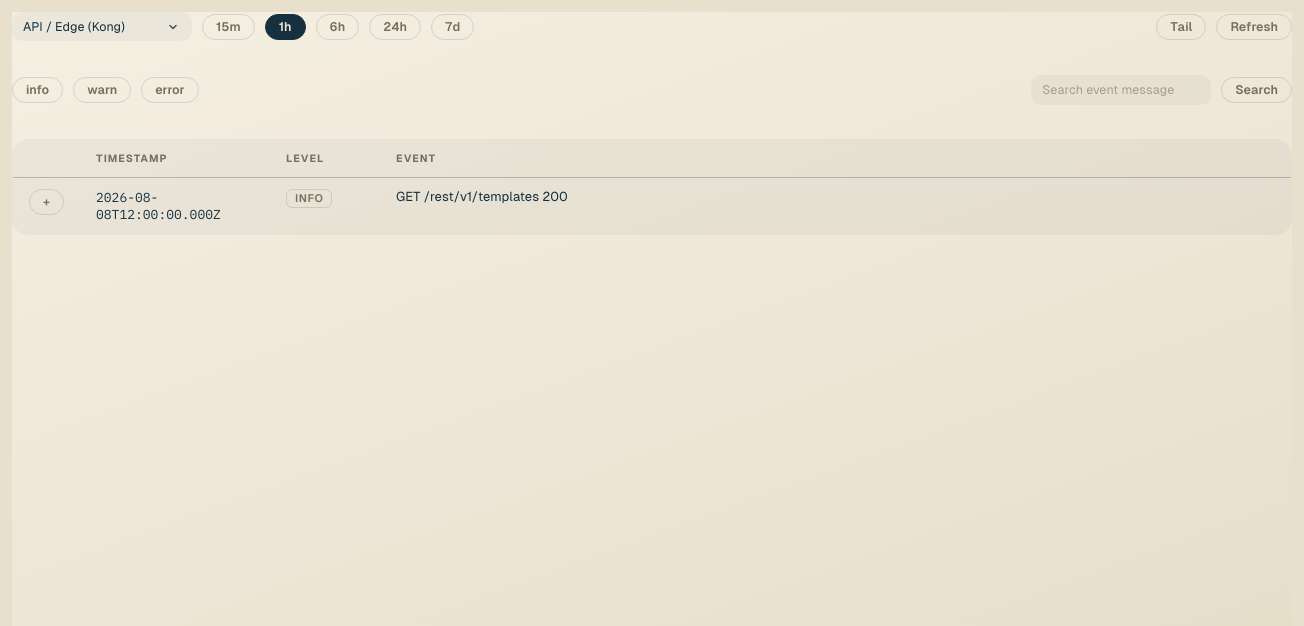
Test: LogsClient — render states › expanding a row reveals its metadata JSON and collapses back
Expected: the text "\"status_code\": 200" is not shown
Click the button named "Expand metadata".
click(46, 202)  # box [29,189,64,215]
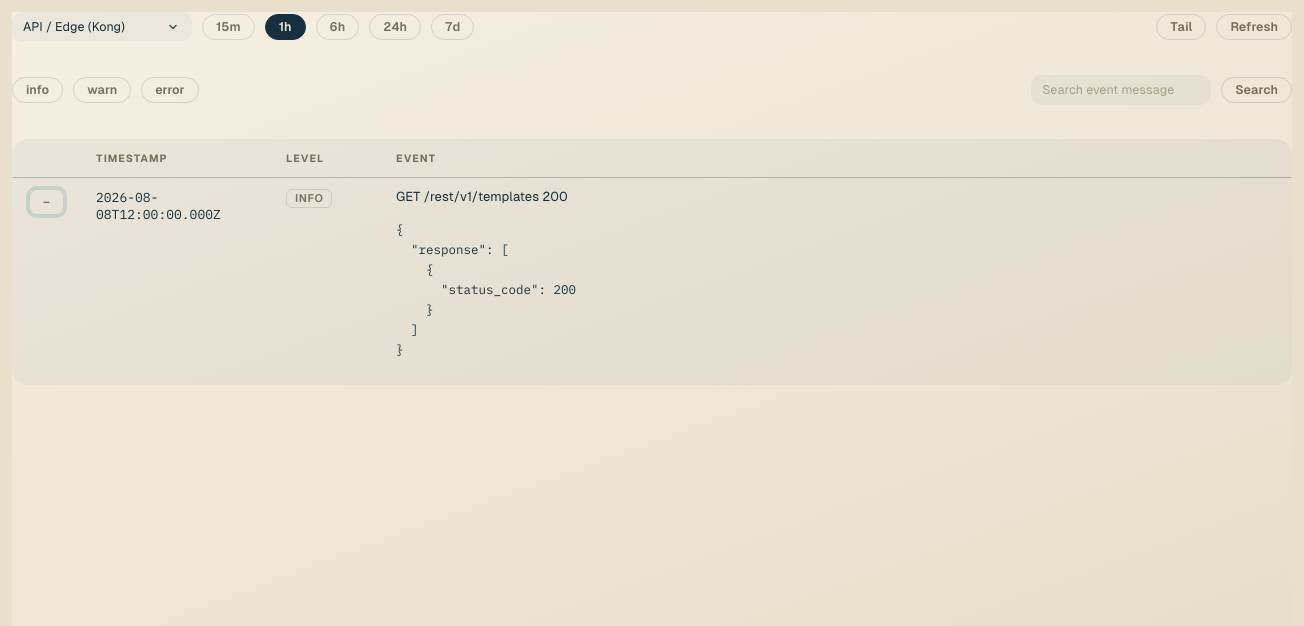
Expected: the text "{ \"response\": [ { \"status_code\": 200 } ] }" is shown, [396,221,576,357]
Click the button named "Collapse metadata".
click(46, 202)  # box [29,189,64,215]
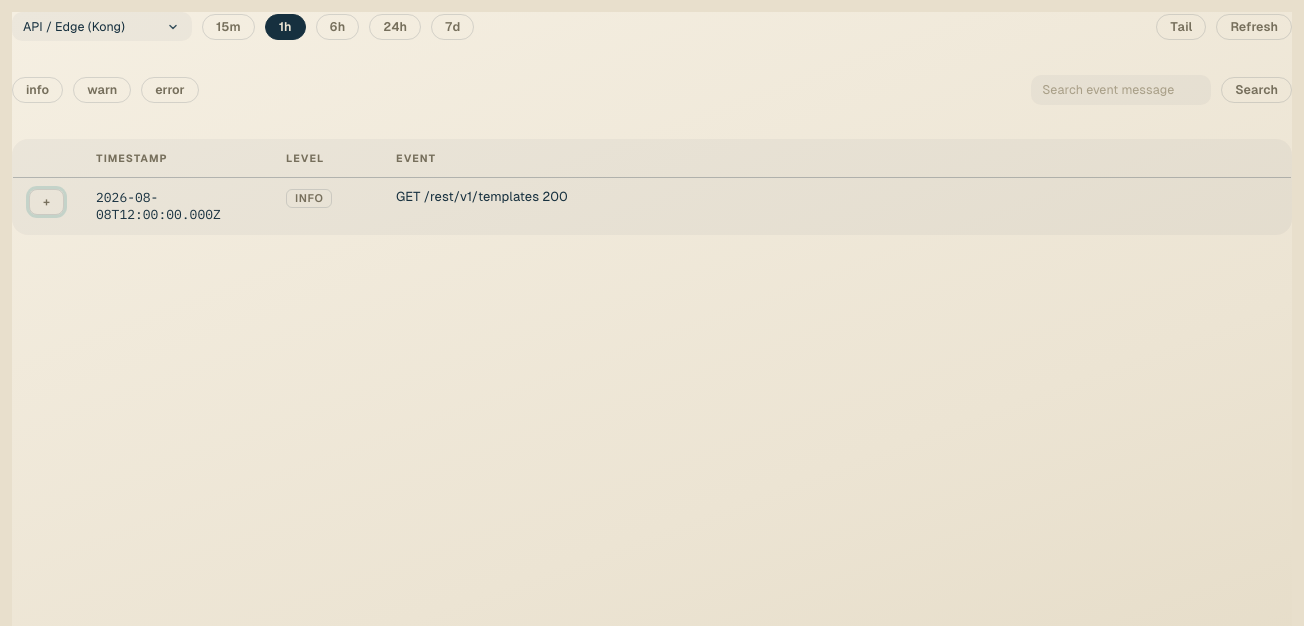
Expected: the text "\"status_code\": 200" is gone
